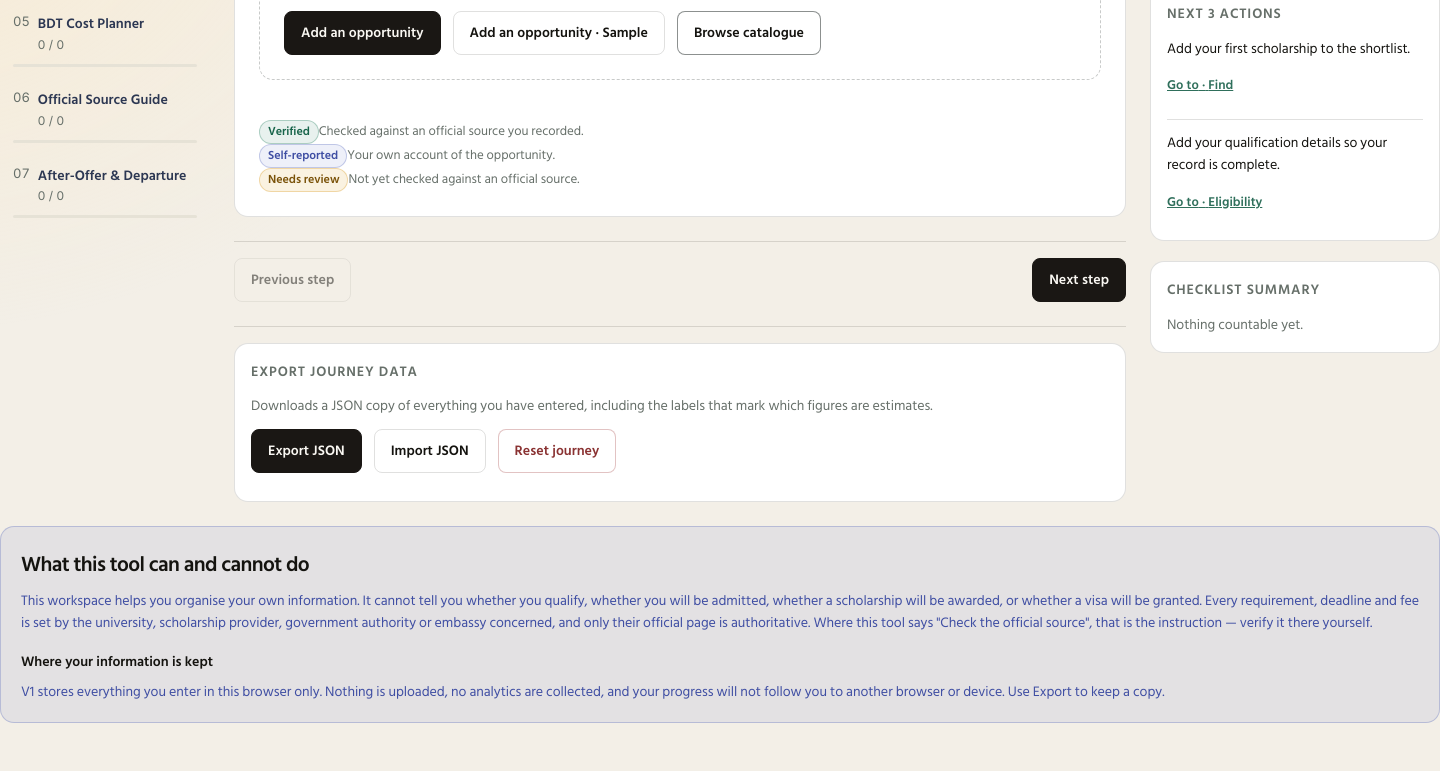
Test: reset › closes on Escape without removing anything
The width and height of the screenshot is (1440, 771).
(page scrolled)
Click the button "Reset journey" at (557, 451), box [498, 429, 616, 473]
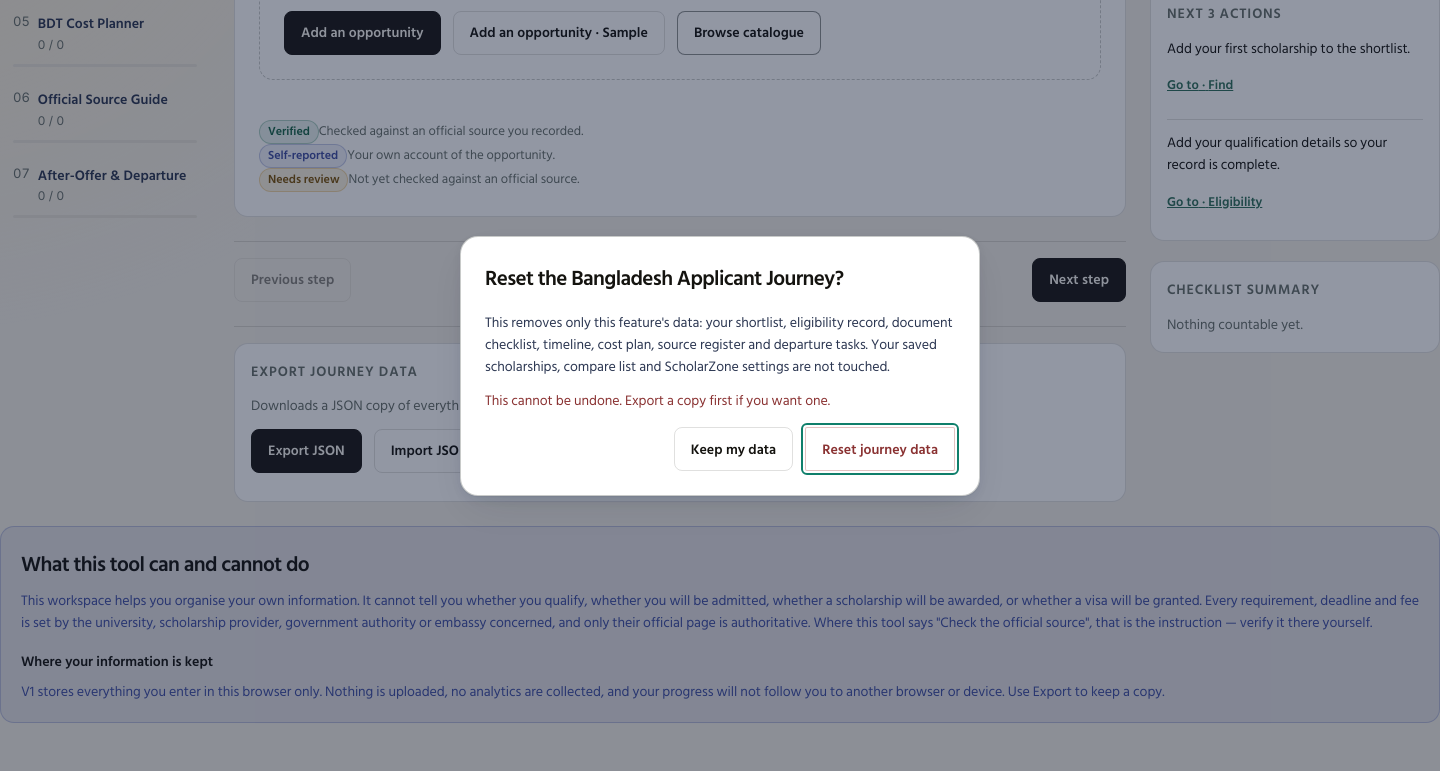
Press Escape
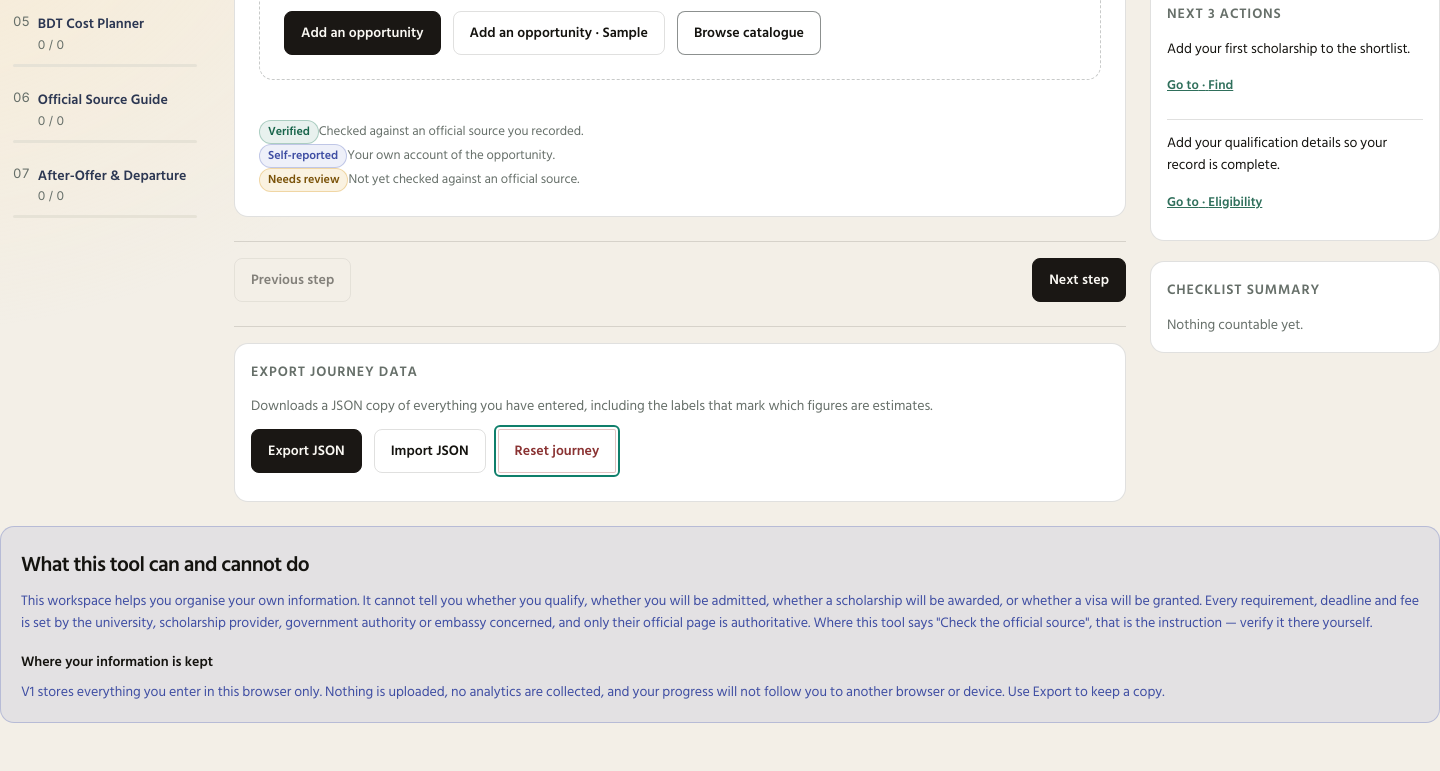
Result: the dialog is gone
